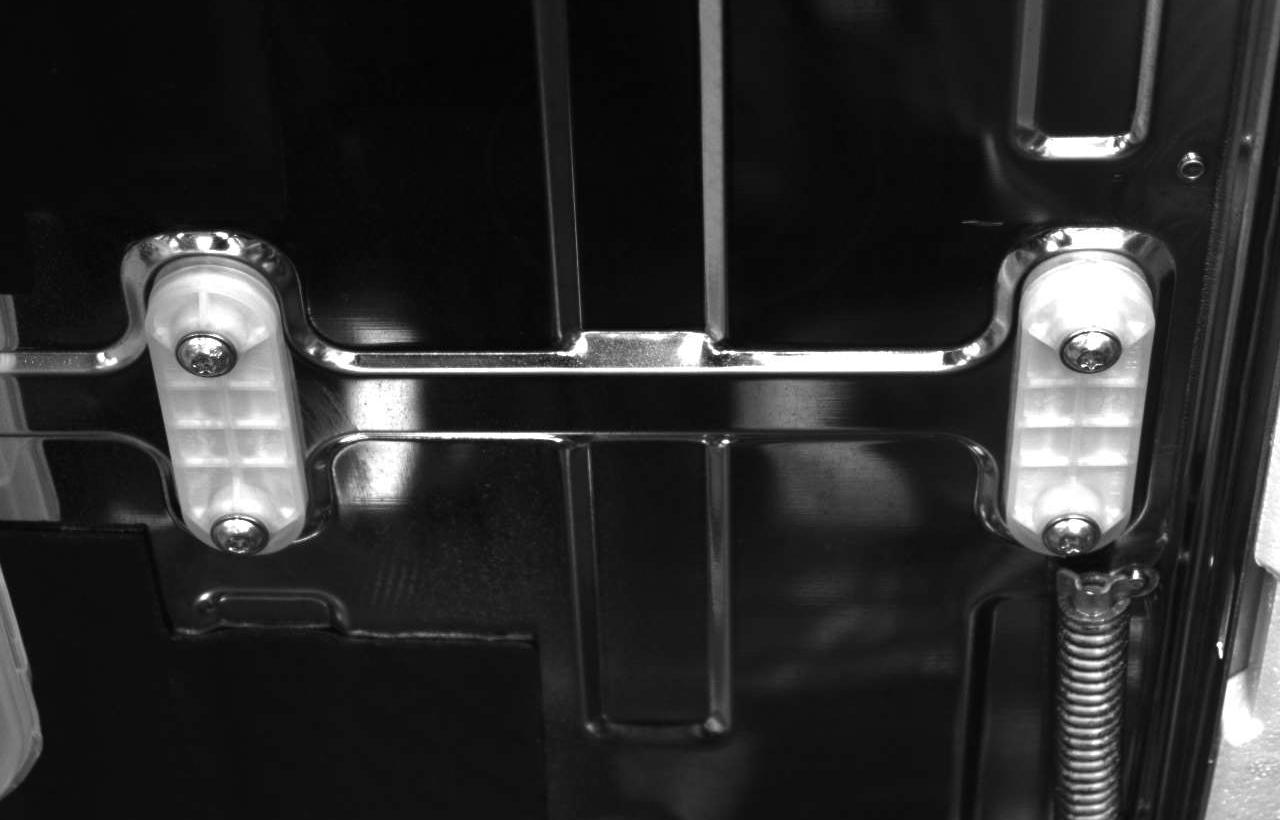vida-ok: (171, 318, 243, 385), (1059, 321, 1126, 388), (1041, 502, 1107, 561), (206, 504, 271, 562)
